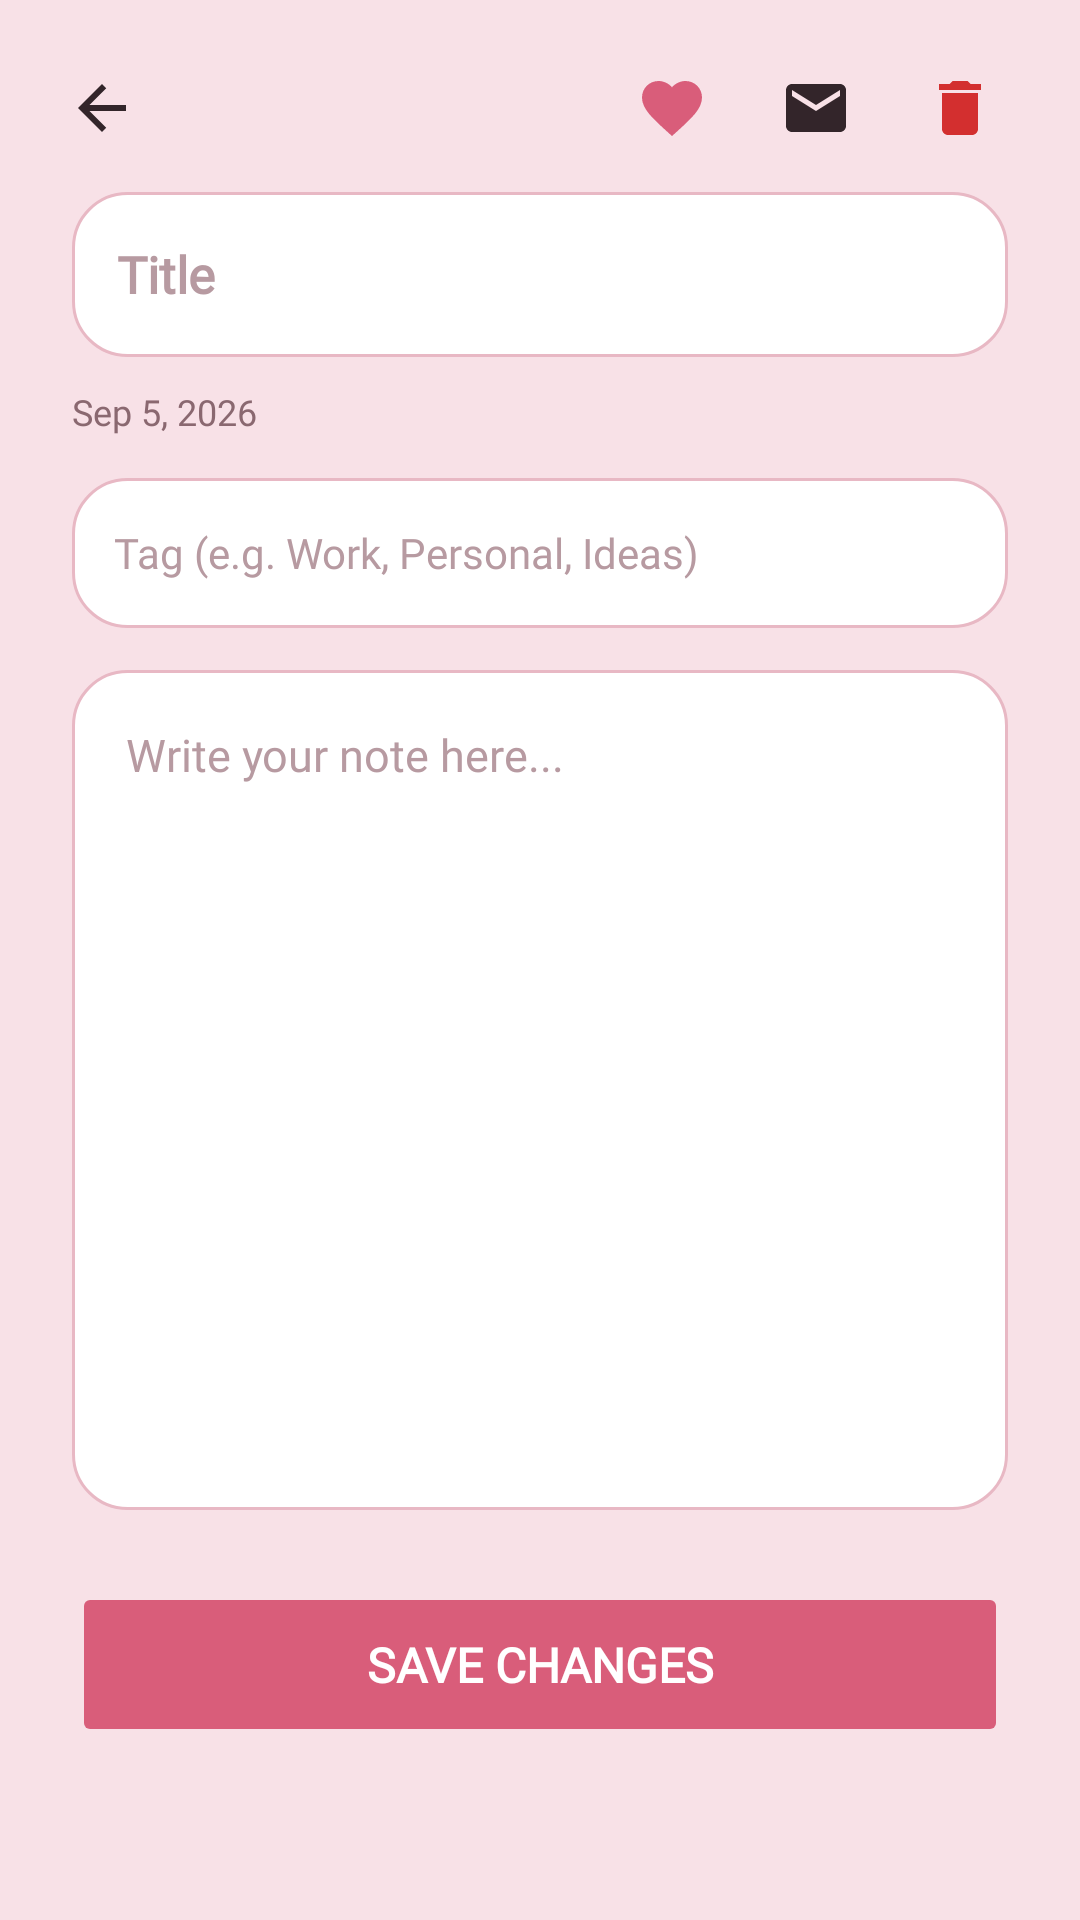

Where to tap for icons on this 1080 × 1920 app screen, as point (x, y):
Back: point (102, 108)
Delete note: point (960, 108)
Send by email: point (816, 108)
Toggle favorite: point (672, 108)
